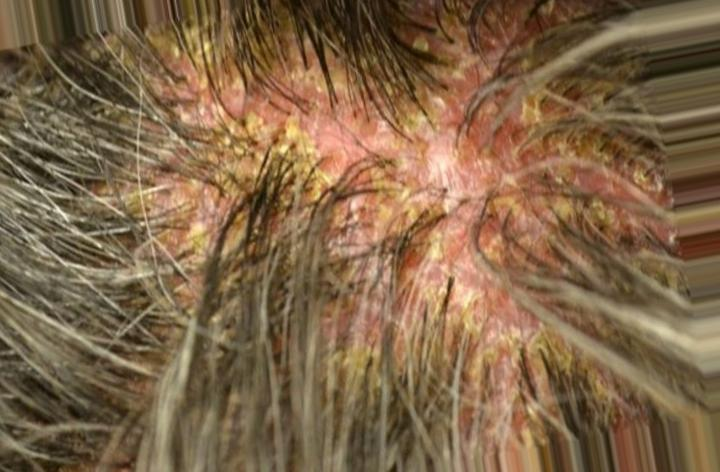Folliculitis: (264, 60, 623, 335)
